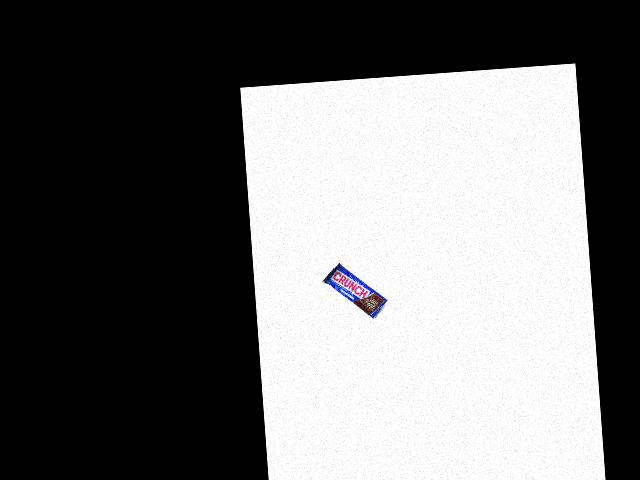chocolate: (320, 258, 390, 323)
